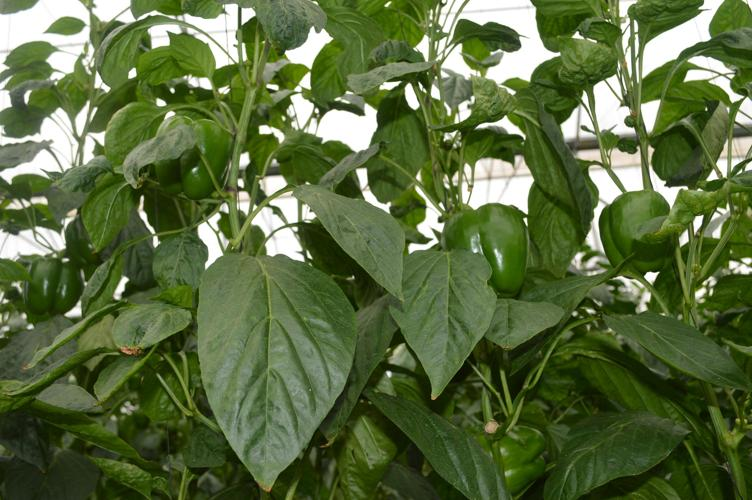BellPepper: (443, 204, 526, 295), (595, 189, 668, 276), (466, 420, 545, 488), (158, 118, 226, 196), (15, 260, 87, 319)
